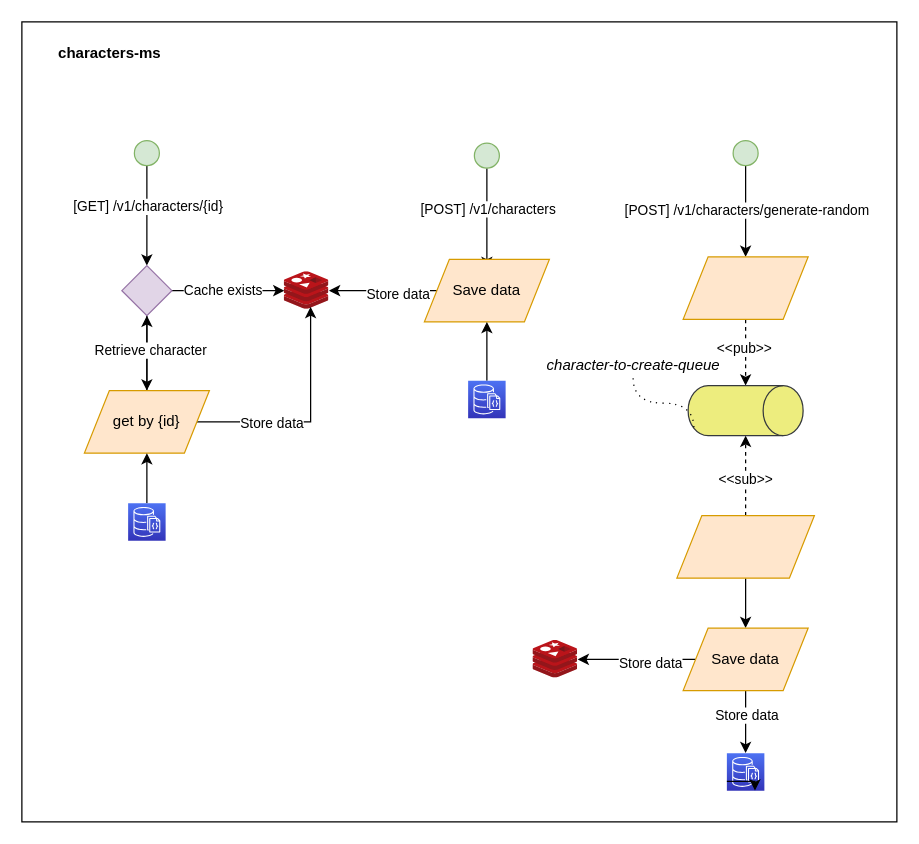
Some shapes in this 919 by 844 pixel diagram are drawn without their labels. Each missing label, with the box of its shape:
Dispatch event: (682, 256, 808, 319)
Event listener: (676, 514, 814, 578)
